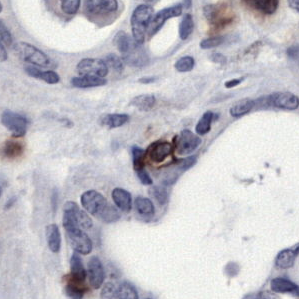Lymphocyte: (142, 139, 176, 166)
